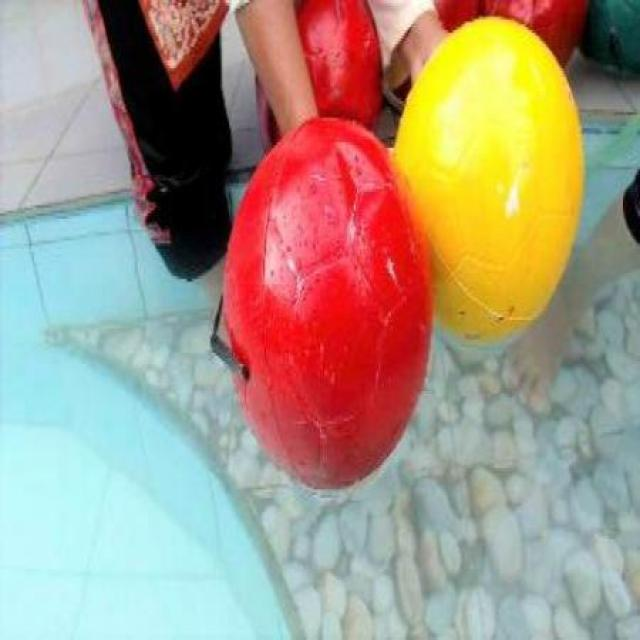buoy: (222, 116, 434, 491), (393, 15, 582, 341)
